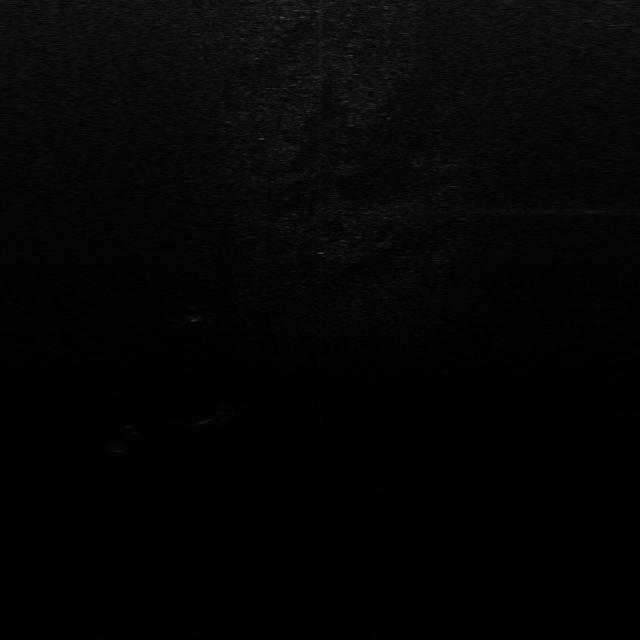ball: (206, 404, 240, 424)
tyre: (102, 425, 138, 454), (182, 305, 207, 323)
